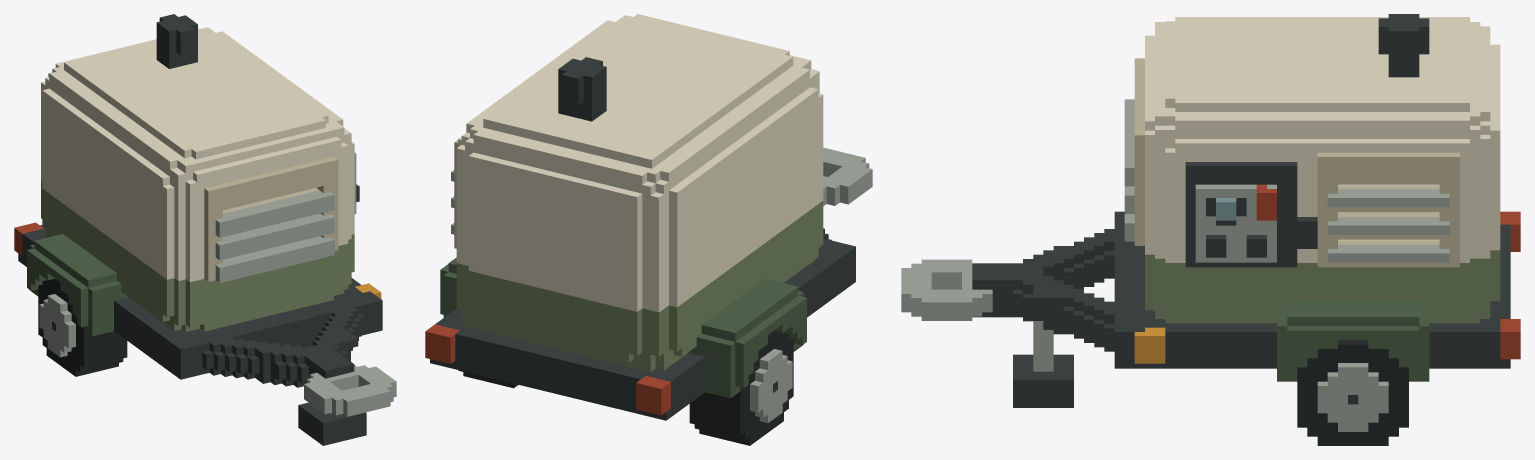
File: generator_trailer.glb
The picture shows the model from 3 angles, left to right: view 1: azimuth 30°, elevation 25°; view 2: azimuth 150°, elevation 25°; view 3: azimuth 270°, elevation 25°; orthographic projection. The views are drawn at different scales.
Parts seen in each view (by area): view 1: generator_trailer; view 2: generator_trailer; view 3: generator_trailer.
Boxes of the visible parts, x1,y1,x2,y2 form: generator_trailer: (14, 14, 396, 445); generator_trailer: (425, 14, 872, 445); generator_trailer: (901, 14, 1520, 445).
Bounding box in the file's own units: 3.6 × 4 × 6.1.
